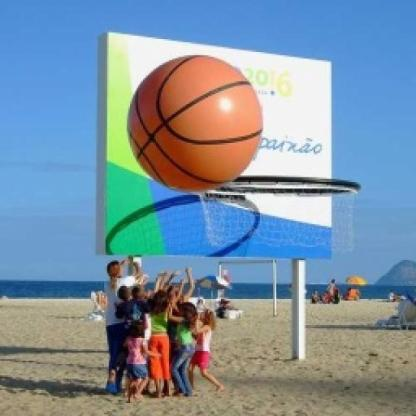basketball: (134, 54, 250, 190)
